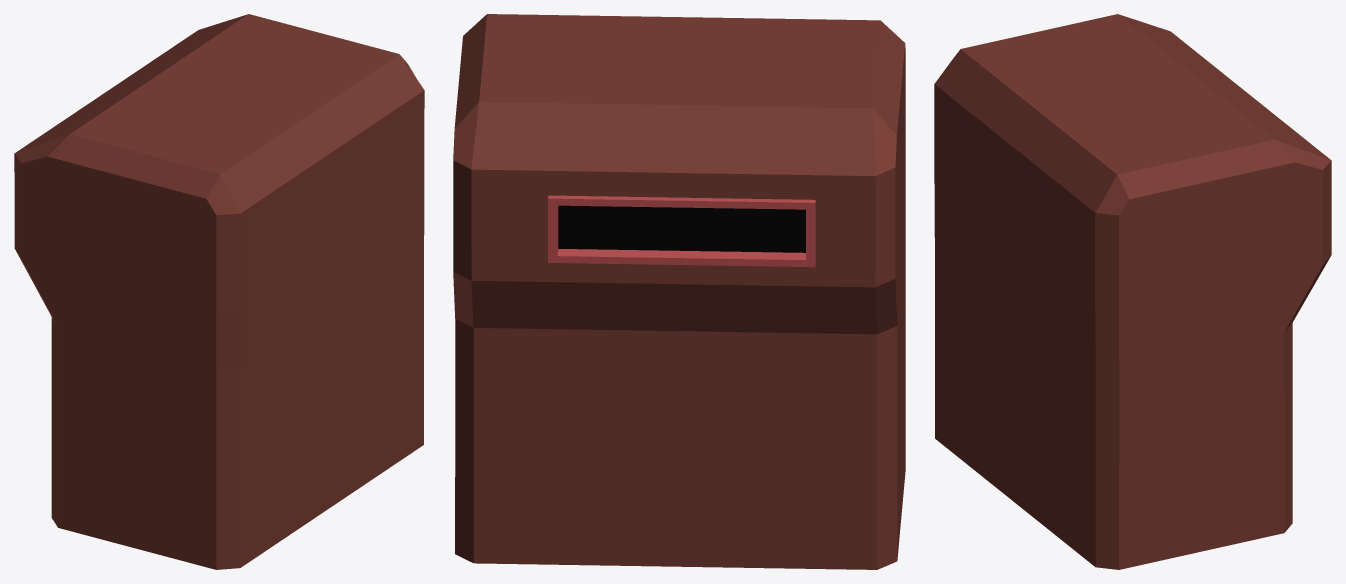
The model's file is Recycle Bin Red.fbx.
3 renders of one model, left to right at view 1: azimuth 30°, elevation 25°; view 2: azimuth 150°, elevation 25°; view 3: azimuth 270°, elevation 25°, orthographic. The views are drawn at different scales.
Visible parts, largest first — view 1: Recycle Bin Red; view 2: Recycle Bin Red; view 3: Recycle Bin Red.
Boxes of the visible parts, <box> form: Recycle Bin Red: <box>14,14,424,569</box>; Recycle Bin Red: <box>453,14,905,569</box>; Recycle Bin Red: <box>934,14,1331,569</box>.
Size of the model in its own units: 60.72 by 54.61 by 58.57.
